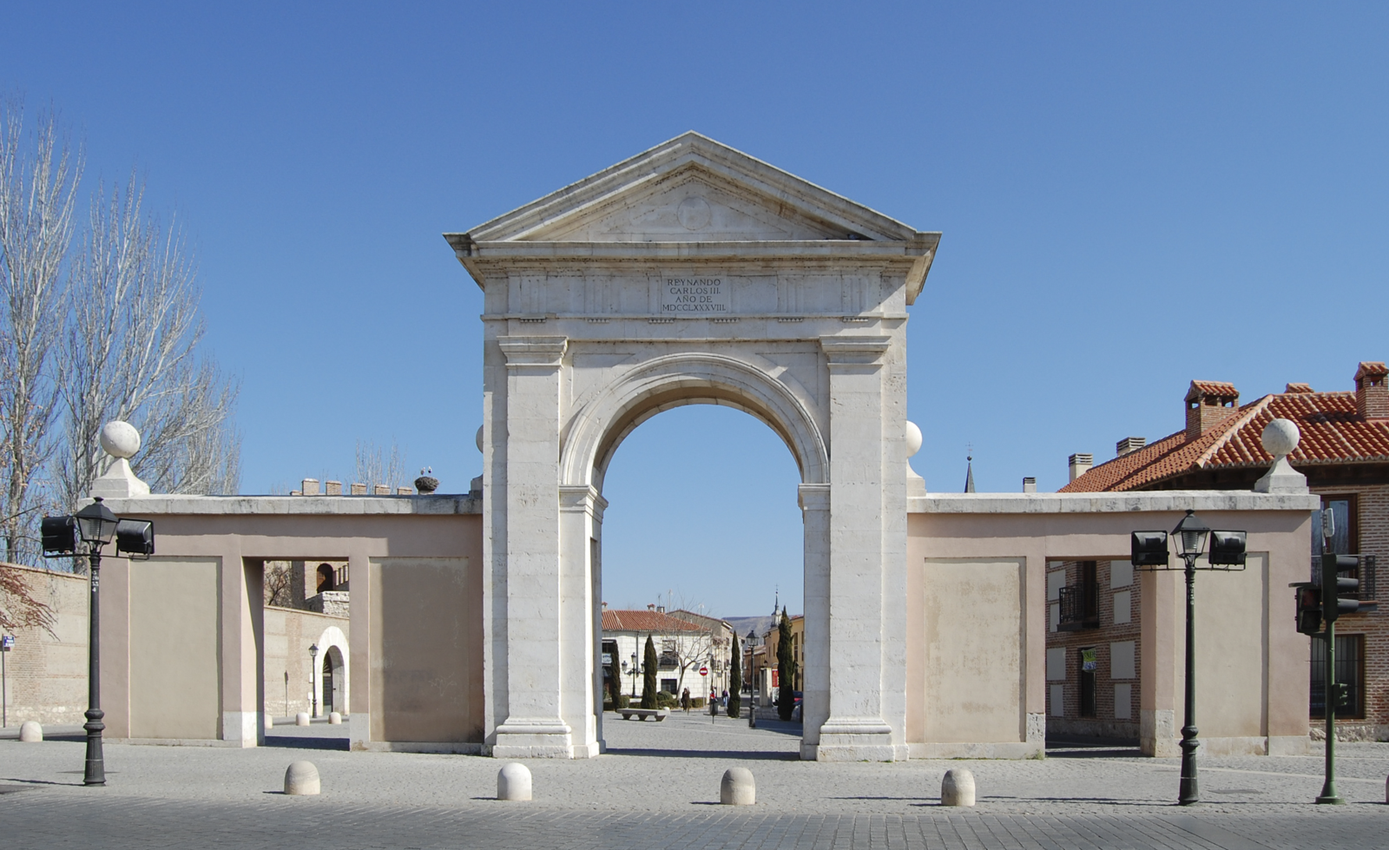fachada: (0, 109, 1320, 764), (1061, 330, 1389, 749)
poste: (1089, 495, 1254, 801), (39, 491, 156, 788)
